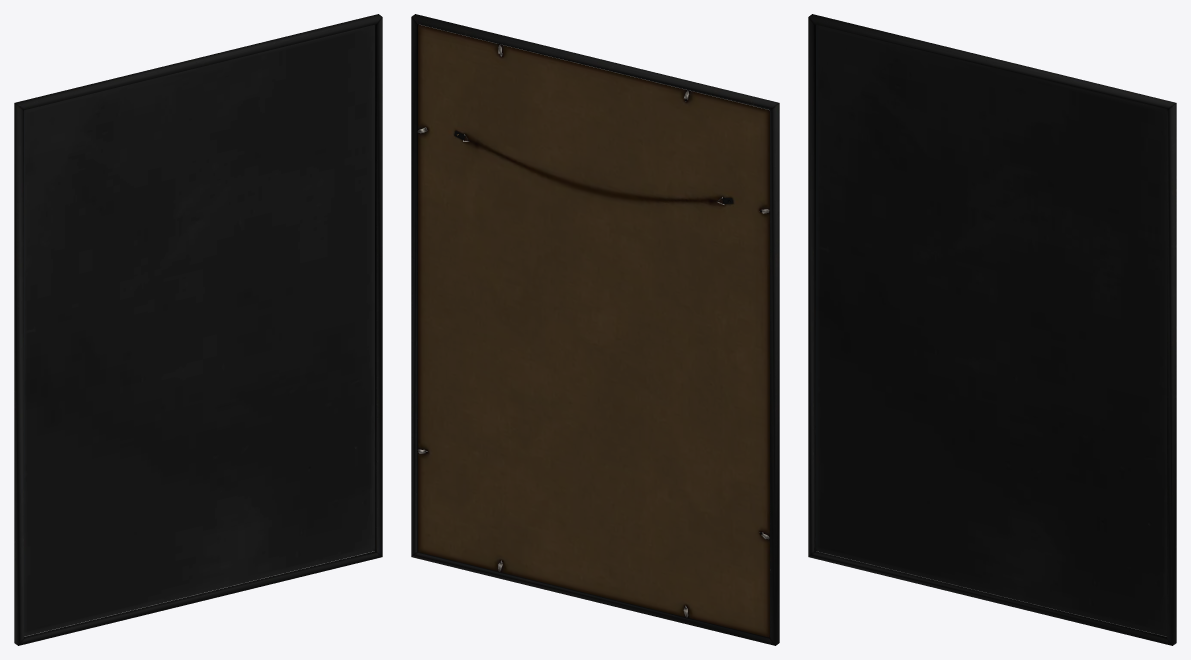
The model's file is hanging_picture_frame_01.glb.
3 views of the same model, side by side, from view 1: azimuth 30°, elevation 25°; view 2: azimuth 150°, elevation 25°; view 3: azimuth 330°, elevation 25° (orthographic).
Parts seen in each view (by area): view 1: hanging_picture_frame_01; view 2: hanging_picture_frame_01; view 3: hanging_picture_frame_01.
Boxes of the visible parts, left/top/right/bottom form: hanging_picture_frame_01: left=14, top=14, right=382, bottom=645; hanging_picture_frame_01: left=411, top=14, right=779, bottom=645; hanging_picture_frame_01: left=808, top=14, right=1176, bottom=645.
Size of the model in its own units: 0.5917 by 0.8387 by 0.0135.
3 materials, 3 textured.
